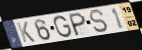1: (111, 6, 124, 31)
6: (33, 18, 52, 41)
G: (53, 15, 73, 39)
K: (16, 21, 37, 44)
P: (69, 12, 87, 37)
S: (88, 9, 110, 34)
